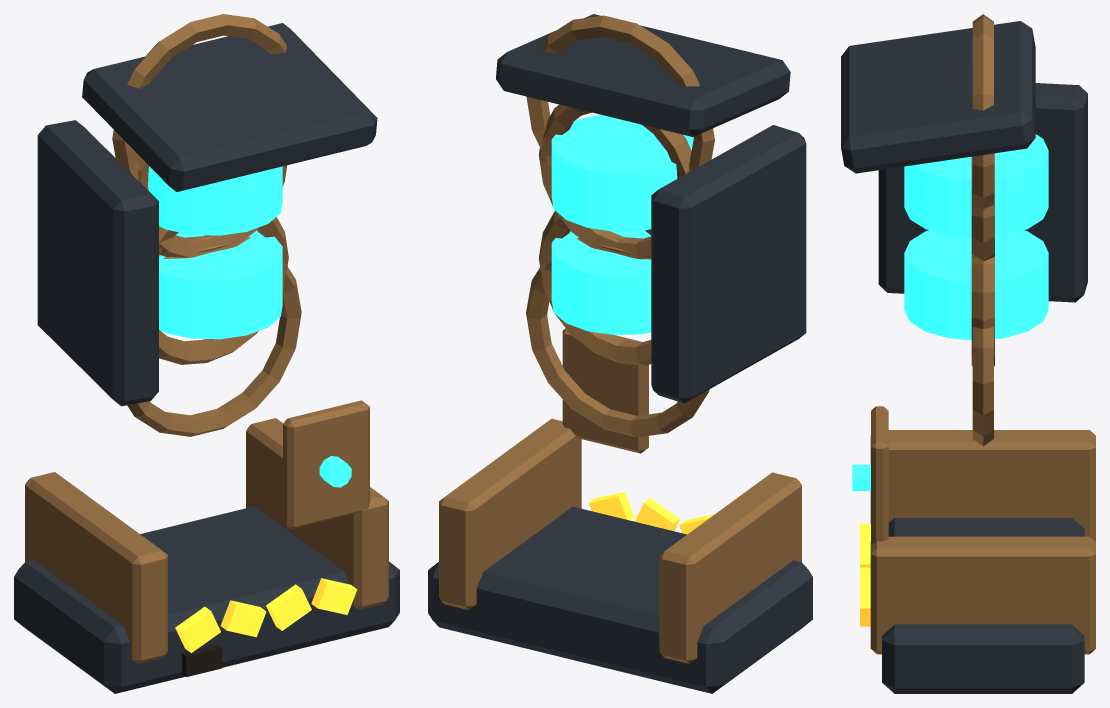
File: runtime.glb
3 renders of one model, left to right at view 1: azimuth 30°, elevation 25°; view 2: azimuth 150°, elevation 25°; view 3: azimuth 270°, elevation 25°, orthographic.
Parts seen in each view (by area): view 1: kinetic-tide-warning-beacon-v10_steel_nocol, kinetic-tide-warning-beacon-v10_bronze_nocol, kinetic-tide-warning-beacon-v10_cyansignal_nocol, kinetic-tide-warning-beacon-v10_warningorange_nocol, kinetic-tide-warning-beacon-v10_weardark_nocol; view 2: kinetic-tide-warning-beacon-v10_steel_nocol, kinetic-tide-warning-beacon-v10_bronze_nocol, kinetic-tide-warning-beacon-v10_cyansignal_nocol, kinetic-tide-warning-beacon-v10_warningorange_nocol; view 3: kinetic-tide-warning-beacon-v10_steel_nocol, kinetic-tide-warning-beacon-v10_bronze_nocol, kinetic-tide-warning-beacon-v10_cyansignal_nocol, kinetic-tide-warning-beacon-v10_warningorange_nocol.
Part boxes in pixels (x1=…): kinetic-tide-warning-beacon-v10_steel_nocol: x1=14, y1=23, x2=399, y2=693; kinetic-tide-warning-beacon-v10_bronze_nocol: x1=25, y1=14, x2=388, y2=663; kinetic-tide-warning-beacon-v10_cyansignal_nocol: x1=148, y1=166, x2=351, y2=487; kinetic-tide-warning-beacon-v10_warningorange_nocol: x1=175, y1=578, x2=357, y2=652; kinetic-tide-warning-beacon-v10_weardark_nocol: x1=182, y1=644, x2=221, y2=676; kinetic-tide-warning-beacon-v10_steel_nocol: x1=428, y1=14, x2=812, y2=693; kinetic-tide-warning-beacon-v10_bronze_nocol: x1=439, y1=15, x2=801, y2=663; kinetic-tide-warning-beacon-v10_cyansignal_nocol: x1=551, y1=114, x2=693, y2=334; kinetic-tide-warning-beacon-v10_warningorange_nocol: x1=588, y1=492, x2=714, y2=534; kinetic-tide-warning-beacon-v10_steel_nocol: x1=841, y1=21, x2=1087, y2=693; kinetic-tide-warning-beacon-v10_bronze_nocol: x1=870, y1=14, x2=1095, y2=654; kinetic-tide-warning-beacon-v10_cyansignal_nocol: x1=852, y1=134, x2=1048, y2=490; kinetic-tide-warning-beacon-v10_warningorange_nocol: x1=860, y1=523, x2=870, y2=626.
Size of the model in its own units: 1.34 by 2.63 by 1.01.
